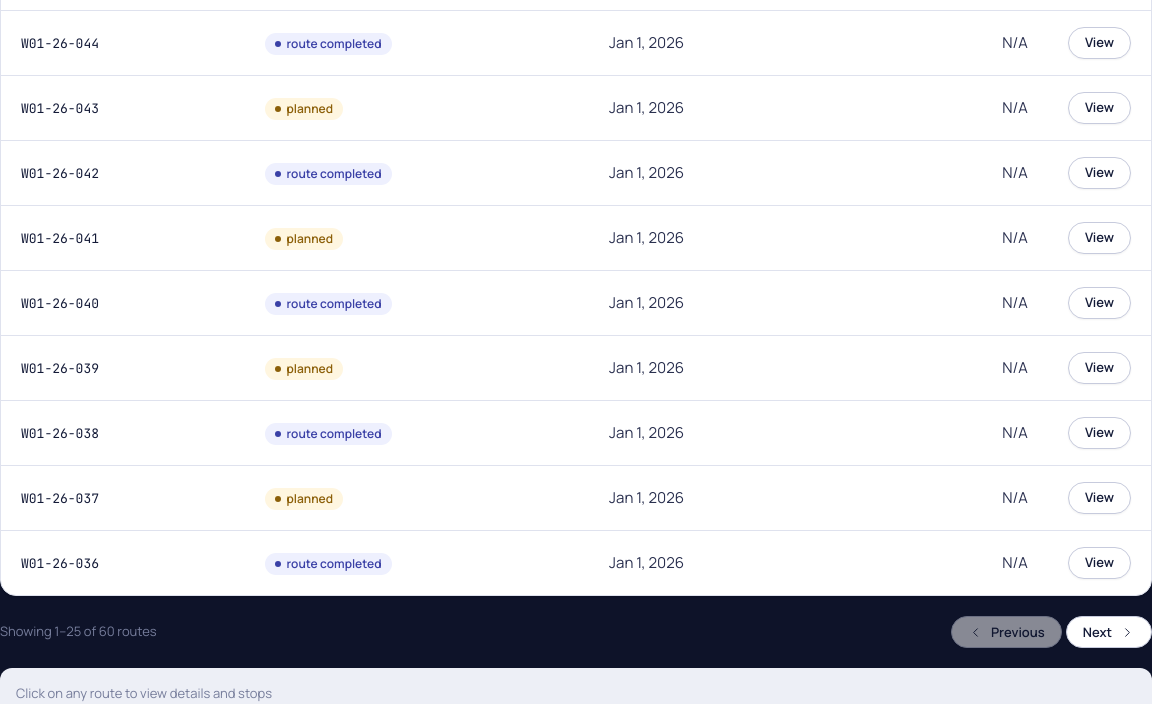
Scenario: Customer Routes List Page › with more than one page of routes › returns to page 1 when the phase chip changes
(page scrolled)
Expected: the text "Showing 1–25 of 60 routes" is shown, x1=0 y1=622 x2=157 y2=642
Click the button with aria-label "Next page of routes".
click(1109, 632)  # box x1=1066 y1=616 x2=1151 y2=648
(page scrolled)
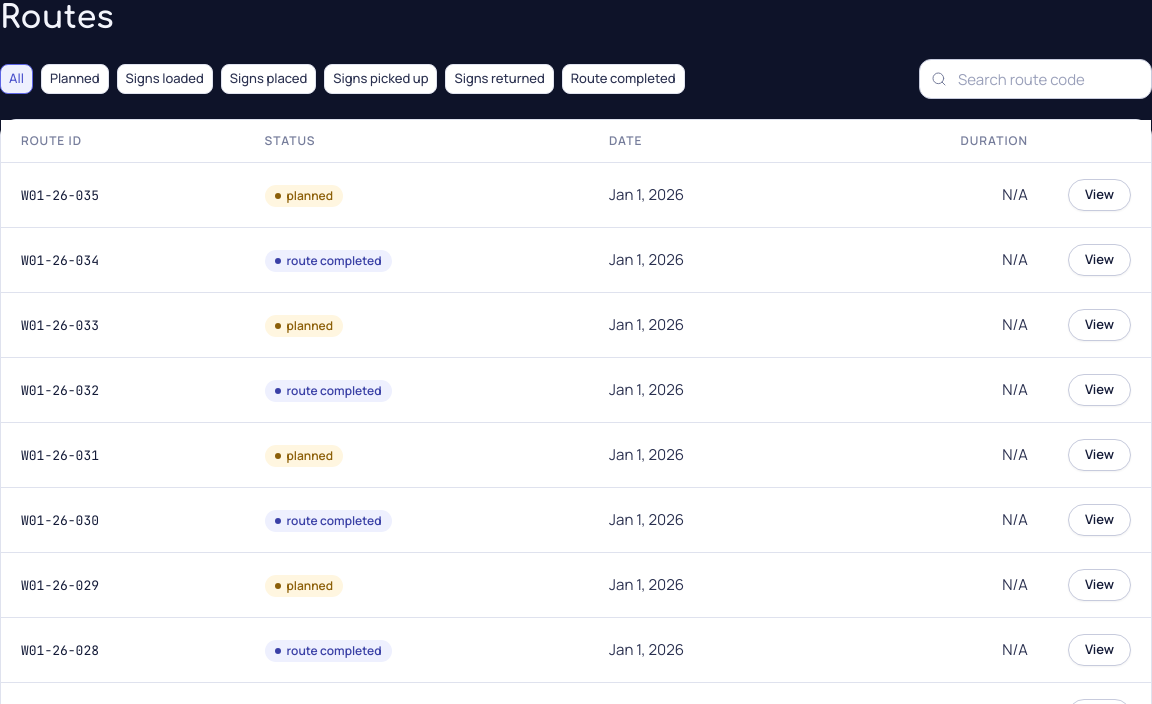
Click the button "Planned".
click(75, 79)  # box x1=41 y1=64 x2=109 y2=94
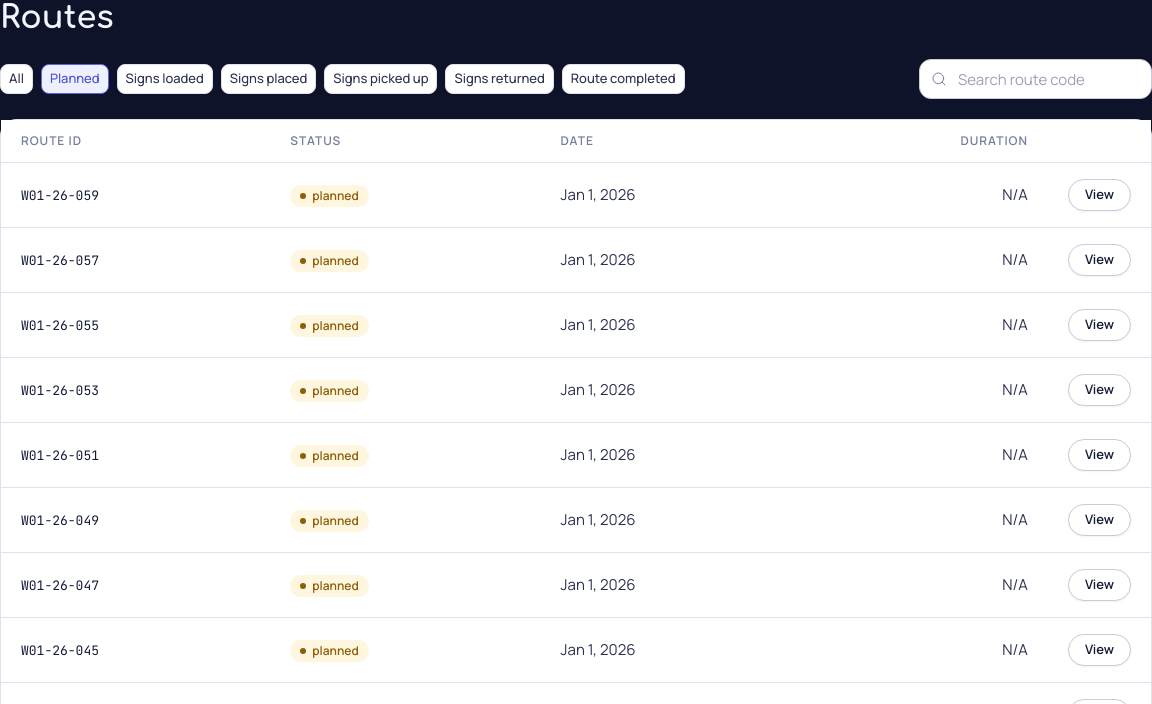
Click the button "All".
click(16, 79)  # box x1=0 y1=64 x2=33 y2=94
(page scrolled)
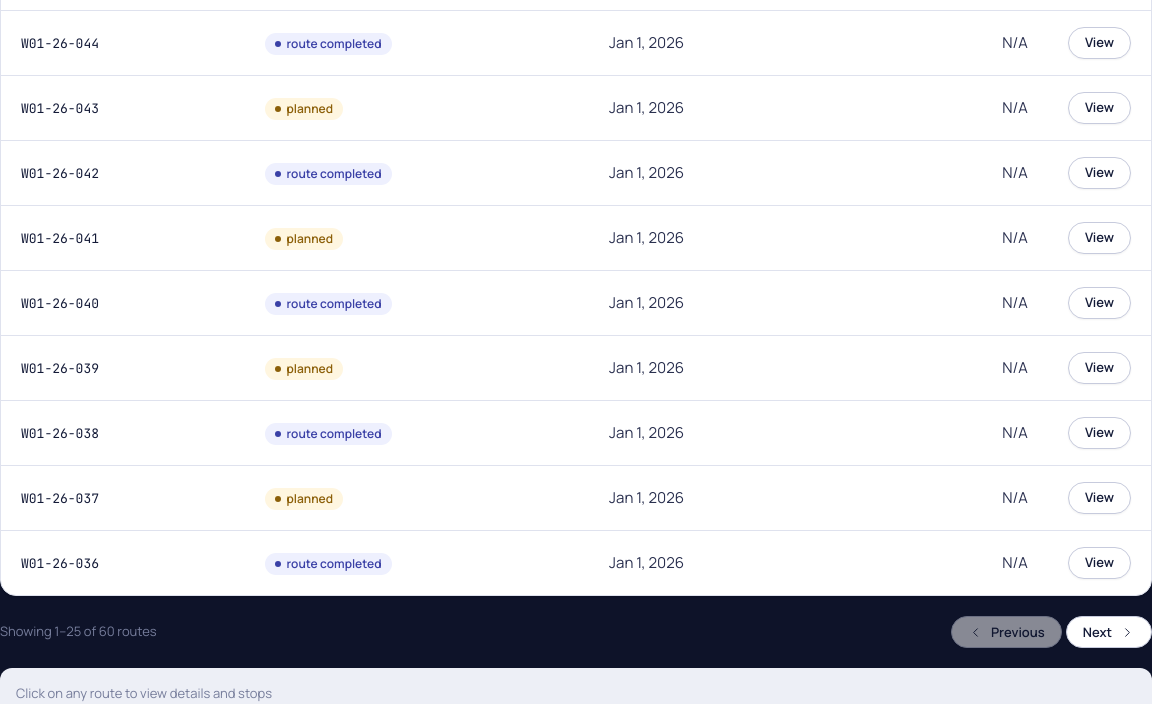
Now the text "Showing 1–25 of 60 routes" is shown, box x1=0 y1=622 x2=157 y2=642
